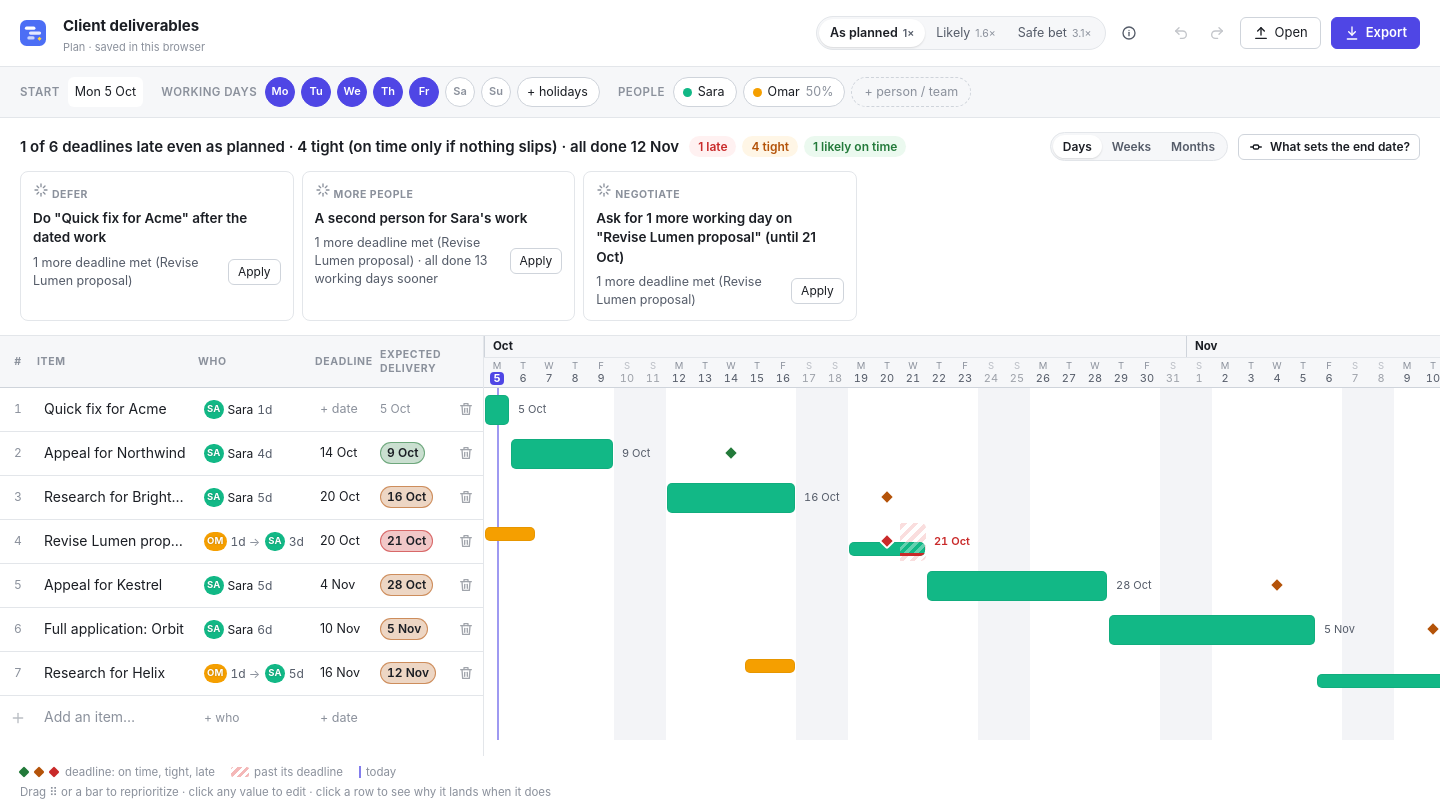
undo and redo › with the switch on, the buttons work and look disabled when there is nothing to do
The image size is (1452, 810).
Click the button with class "daychip" showing "Sa". click: (460, 92)
box: [445,77,475,107]
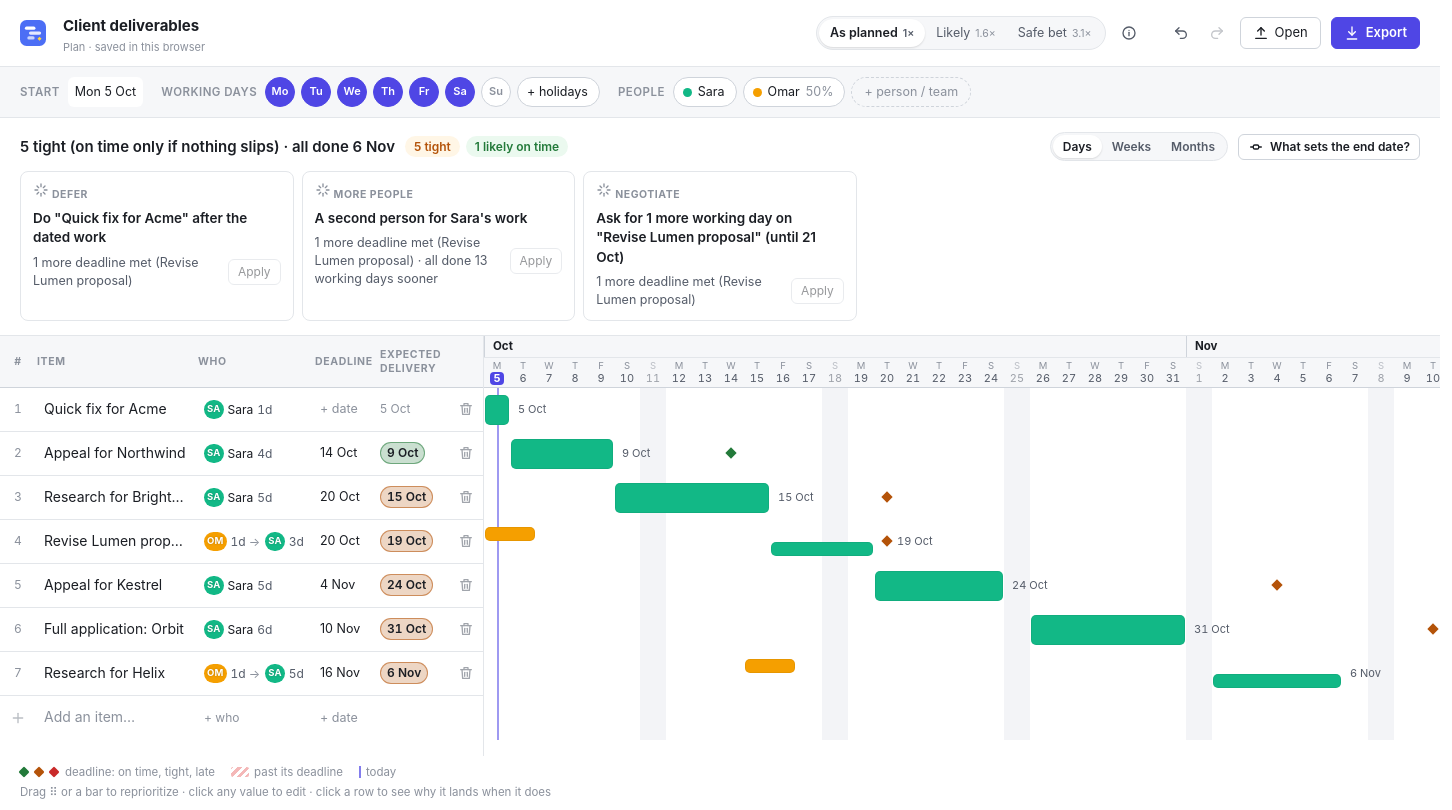
Click the button named "Undo". click: (1180, 33)
box: [1168,20,1194,46]
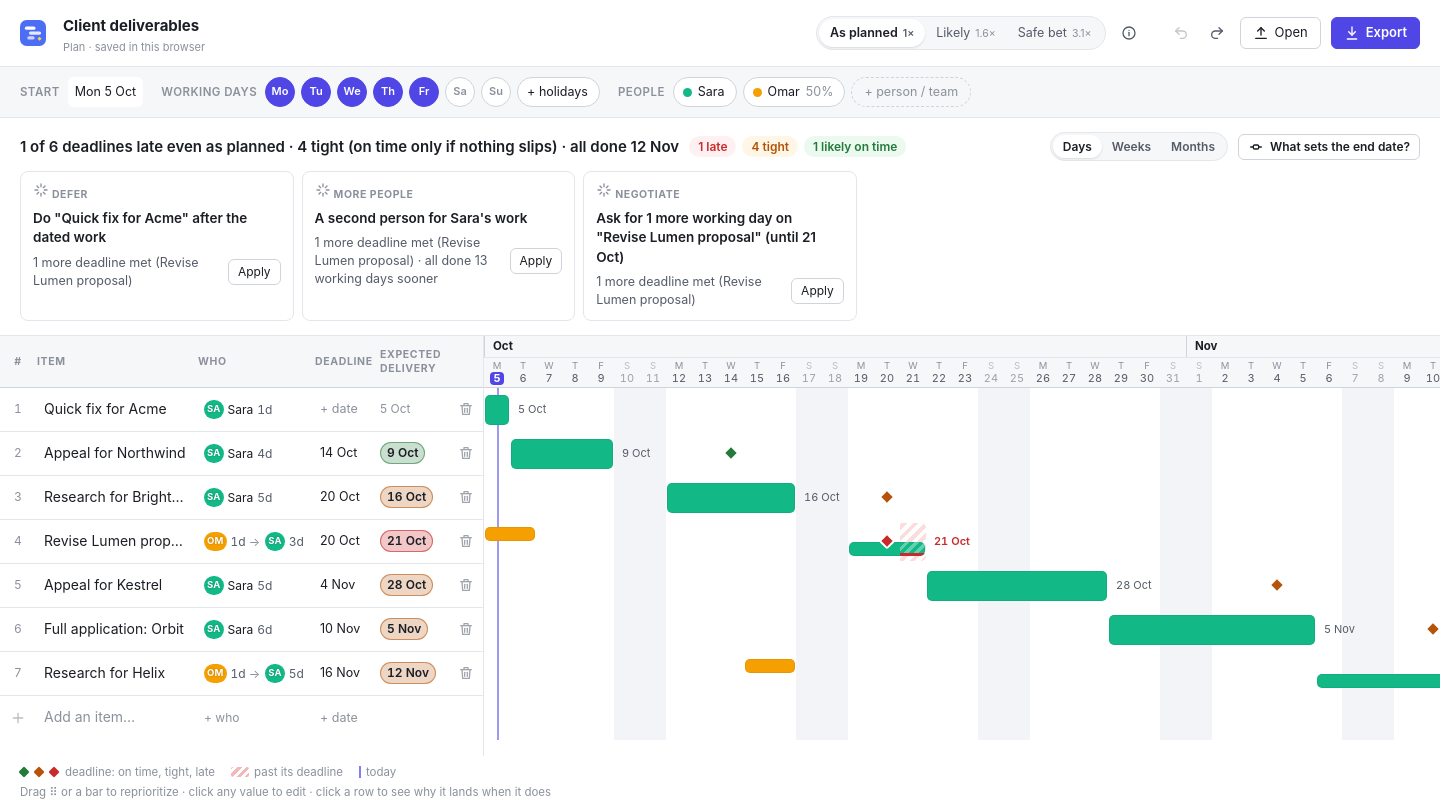
Expected: the button named "Undo" is disabled, [1168,20,1194,46]
Click the button named "Redo". click: (1216, 33)
box: [1204,20,1230,46]
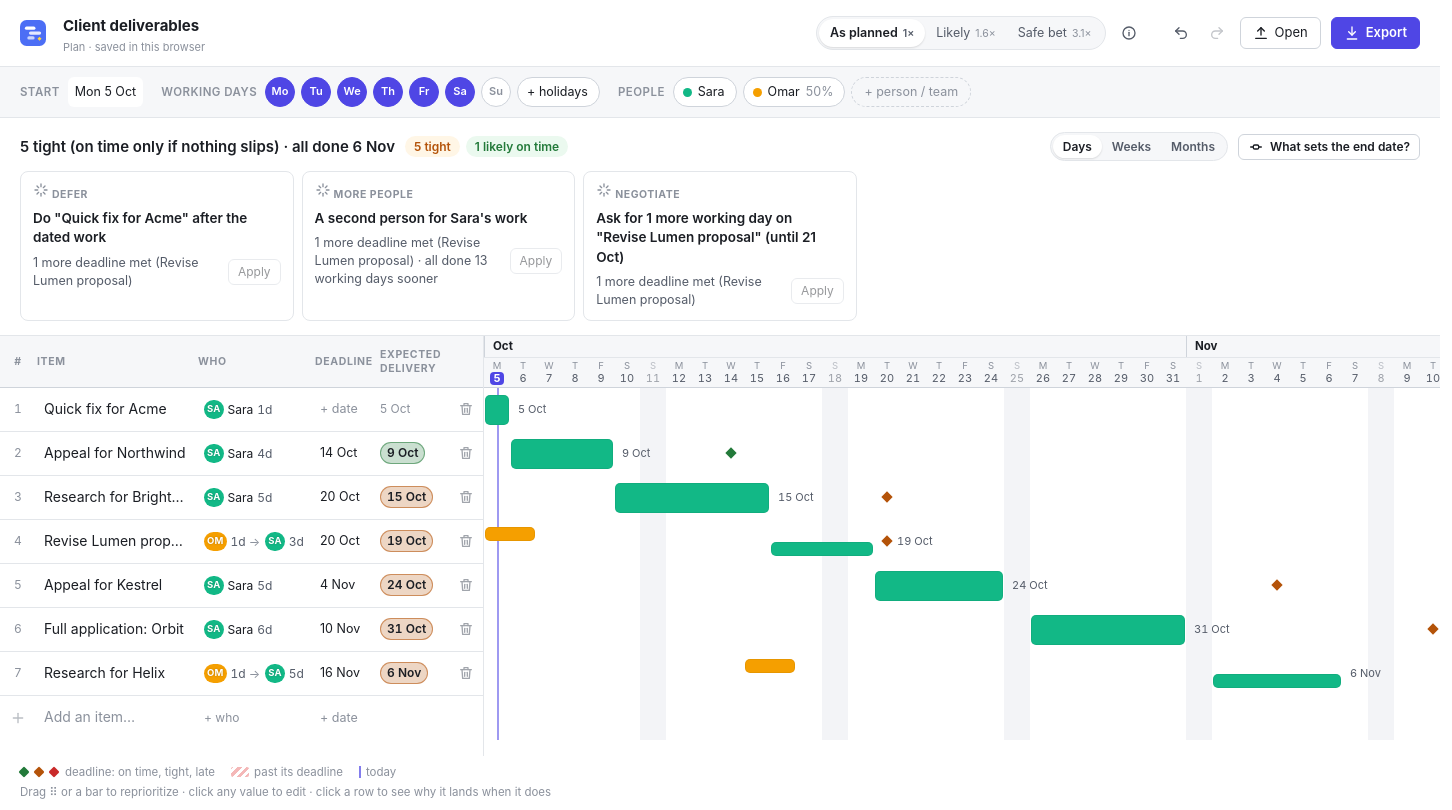
Expected: the button named "Redo" is disabled, [1204,20,1230,46]
